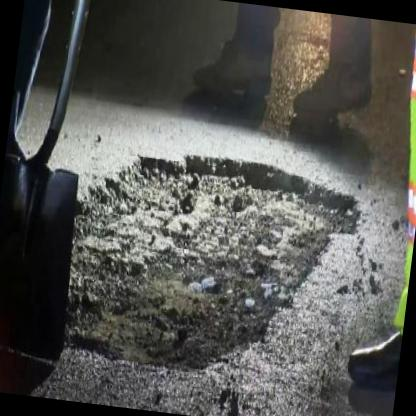pothole: (33, 132, 368, 388)
